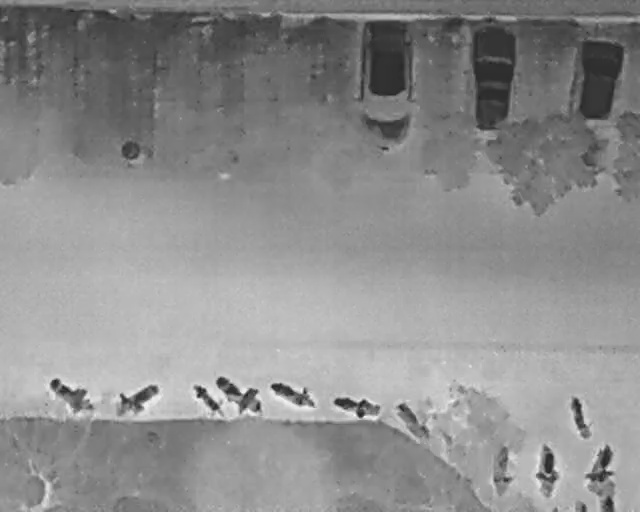Bicycle: (208, 365, 272, 422), (105, 370, 166, 427), (43, 367, 102, 423), (185, 373, 235, 428), (265, 372, 323, 417), (329, 387, 385, 425), (391, 399, 436, 446), (582, 441, 618, 497), (486, 441, 517, 497), (532, 443, 562, 499), (564, 393, 597, 443), (598, 493, 617, 510), (576, 499, 589, 510)
Car: (354, 14, 425, 157), (464, 19, 518, 142), (567, 29, 632, 129)
